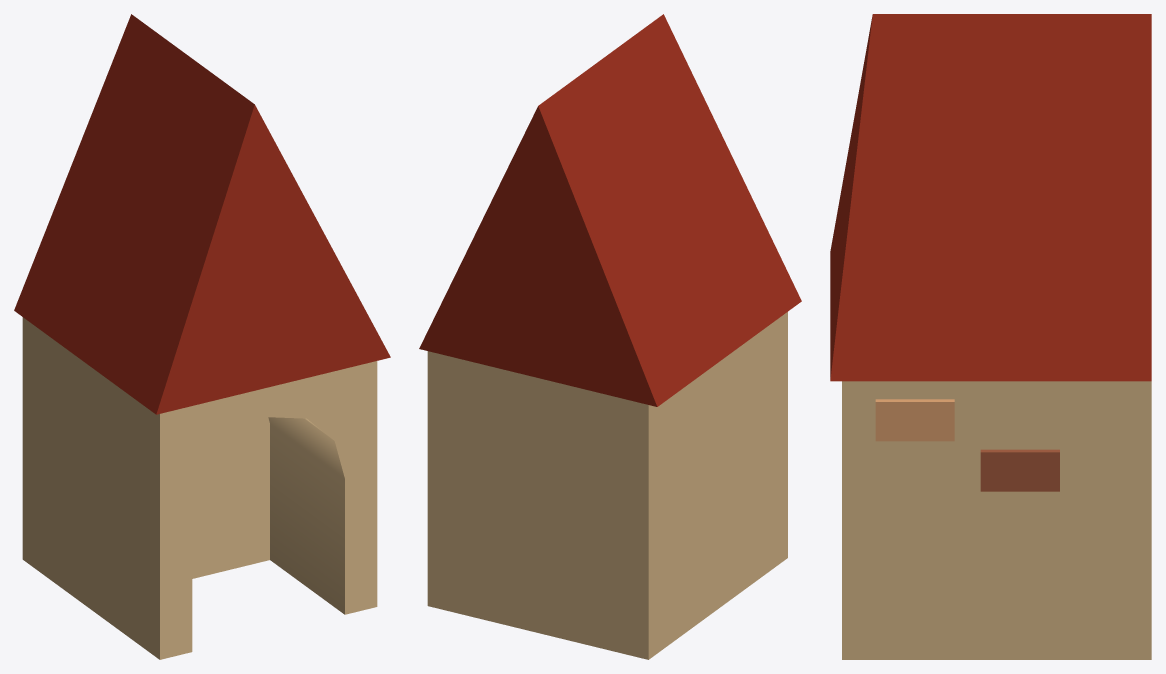
The model's file is Entrance.glb.
3 views of the same model, side by side, from view 1: azimuth 30°, elevation 25°; view 2: azimuth 150°, elevation 25°; view 3: azimuth 270°, elevation 25° (orthographic). The views are drawn at different scales.
Visible parts, largest first — view 1: Entrance; view 2: Entrance; view 3: Entrance.
Part boxes in pixels (x1,y1,x2,y2): Entrance: (14,14,390,659); Entrance: (419,14,801,659); Entrance: (830,14,1151,659).
Size of the model in its own units: 1.01 by 2.13 by 1.06.
